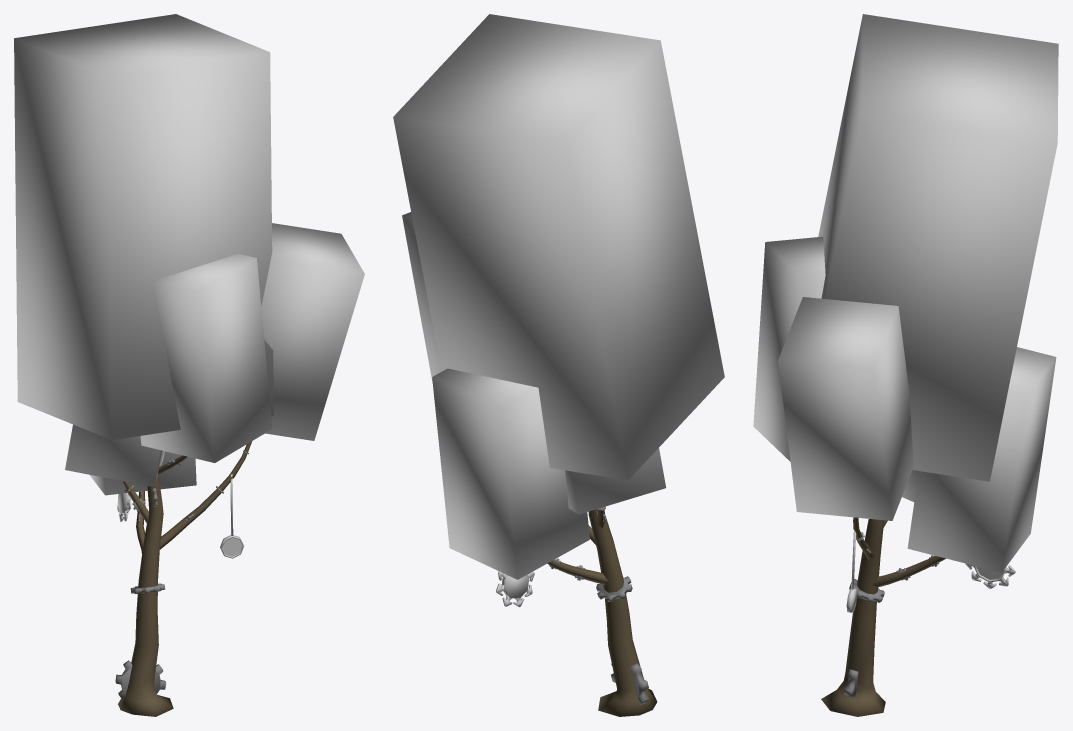
The model's file is sm_tree_clockwork_02_LOD1.fbx.
The picture shows the model from 3 angles, left to right: view 1: azimuth 30°, elevation 25°; view 2: azimuth 150°, elevation 25°; view 3: azimuth 270°, elevation 25°; orthographic projection. The views are drawn at different scales.
Visible parts, largest first — view 1: sm_tree_clockwork_02_LOD1; view 2: sm_tree_clockwork_02_LOD1; view 3: sm_tree_clockwork_02_LOD1.
Boxes of the visible parts, x1,y1,x2,y2 form: sm_tree_clockwork_02_LOD1: (14, 14, 364, 716); sm_tree_clockwork_02_LOD1: (393, 14, 724, 716); sm_tree_clockwork_02_LOD1: (753, 14, 1058, 716).
Bounding box in the file's own units: 6.62 × 6.15 × 14.97.
